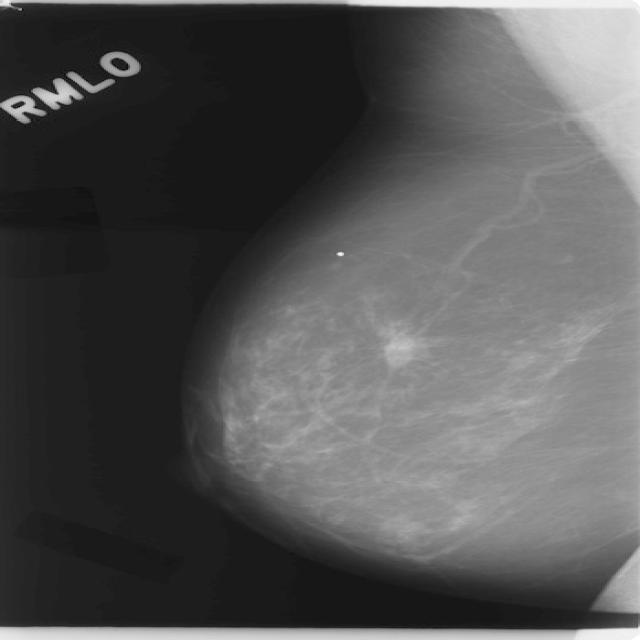tumour: (381, 333, 414, 368)
